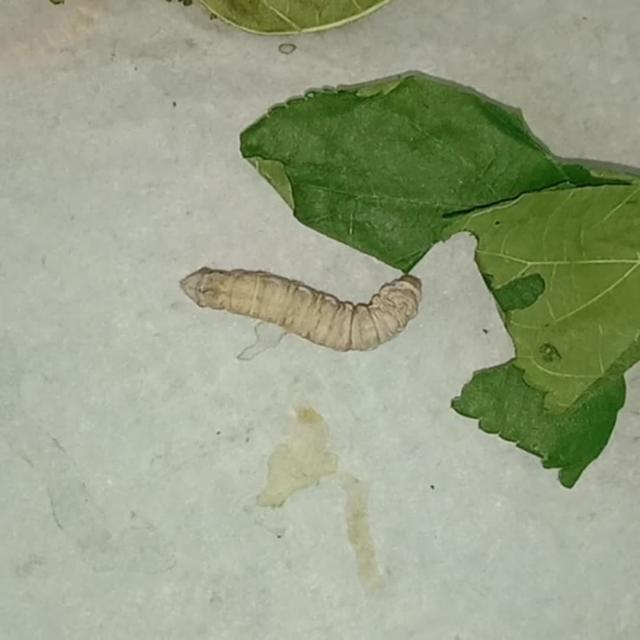Grasserie: (160, 210, 461, 382)
